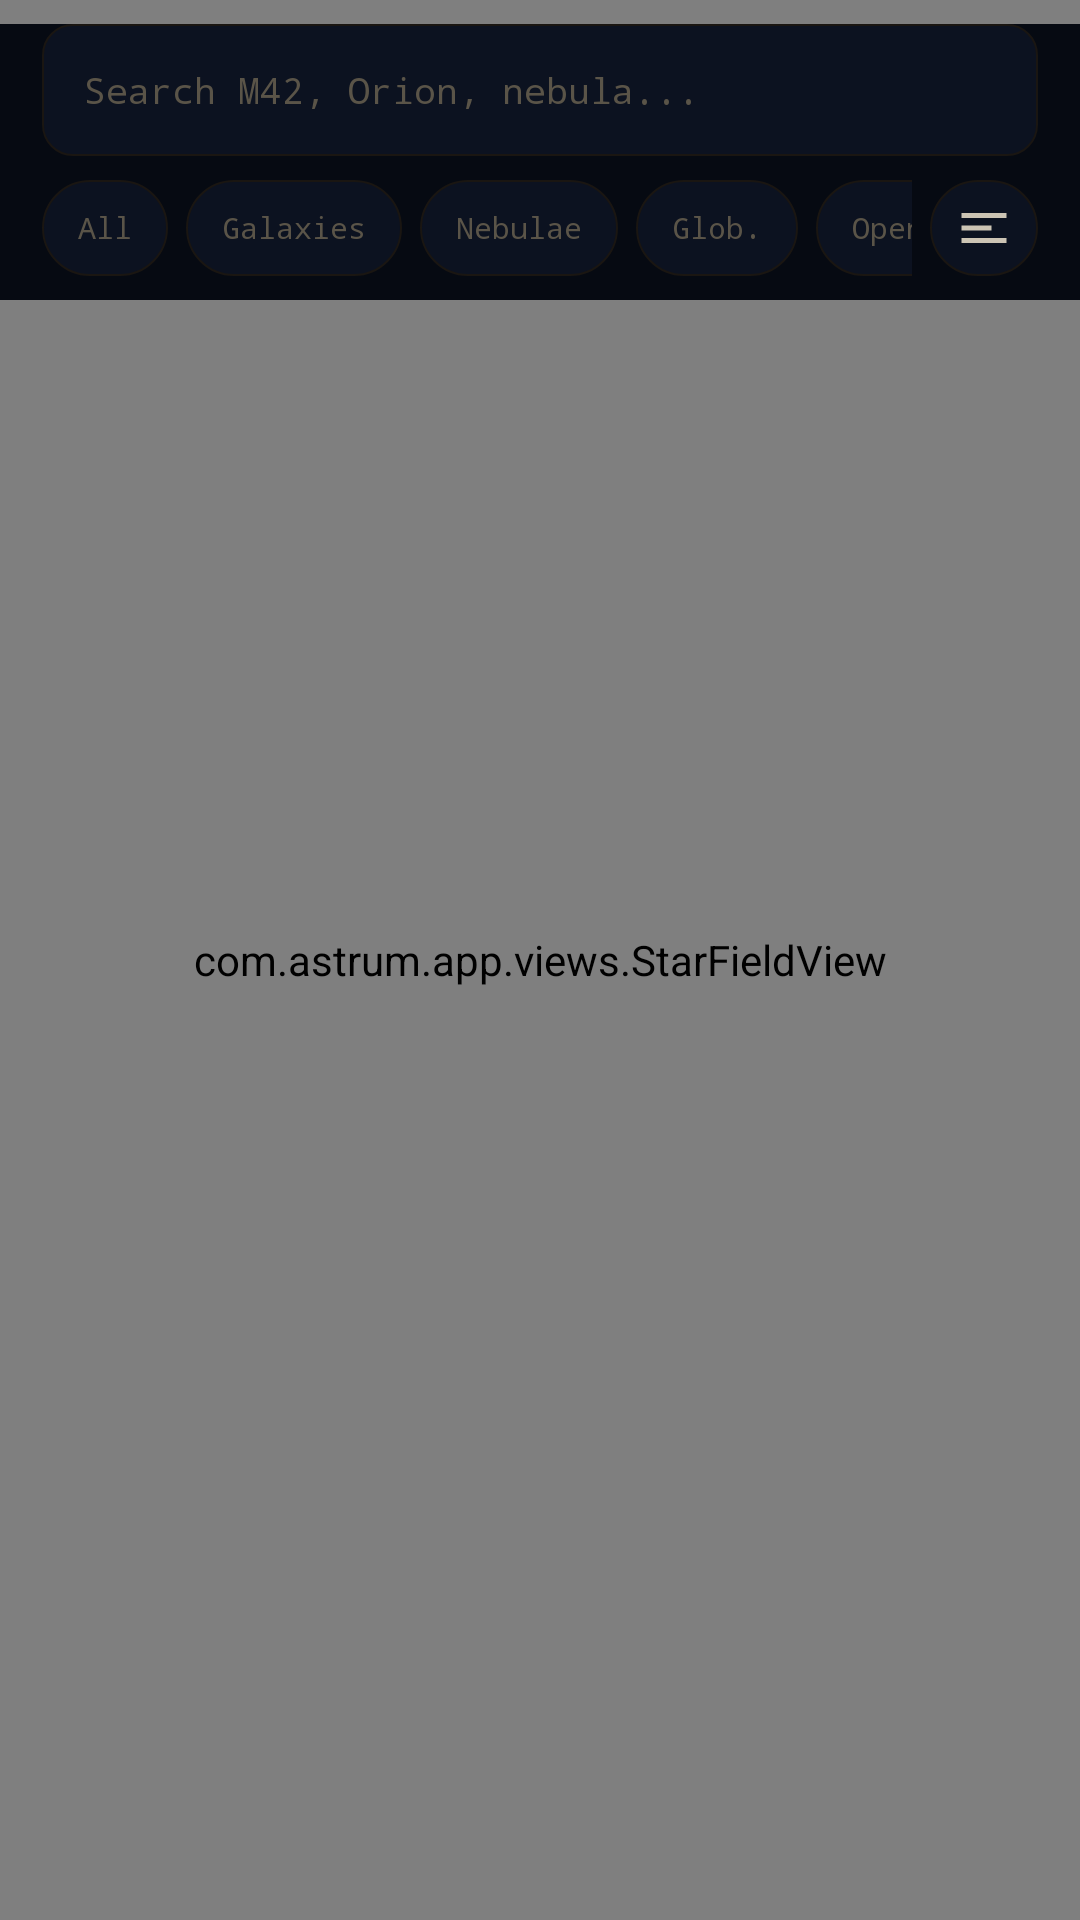

Where to tap for icons on this 1080x1920 app screen, as point (x, y):
Sort by: point (984, 228)
